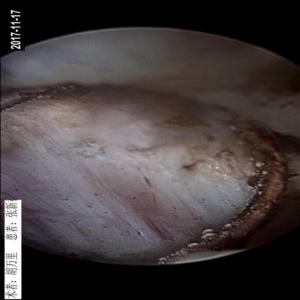film: (14, 156, 241, 251)
